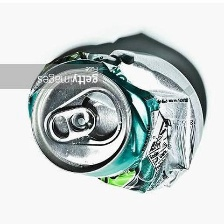can: (17, 38, 208, 201)
